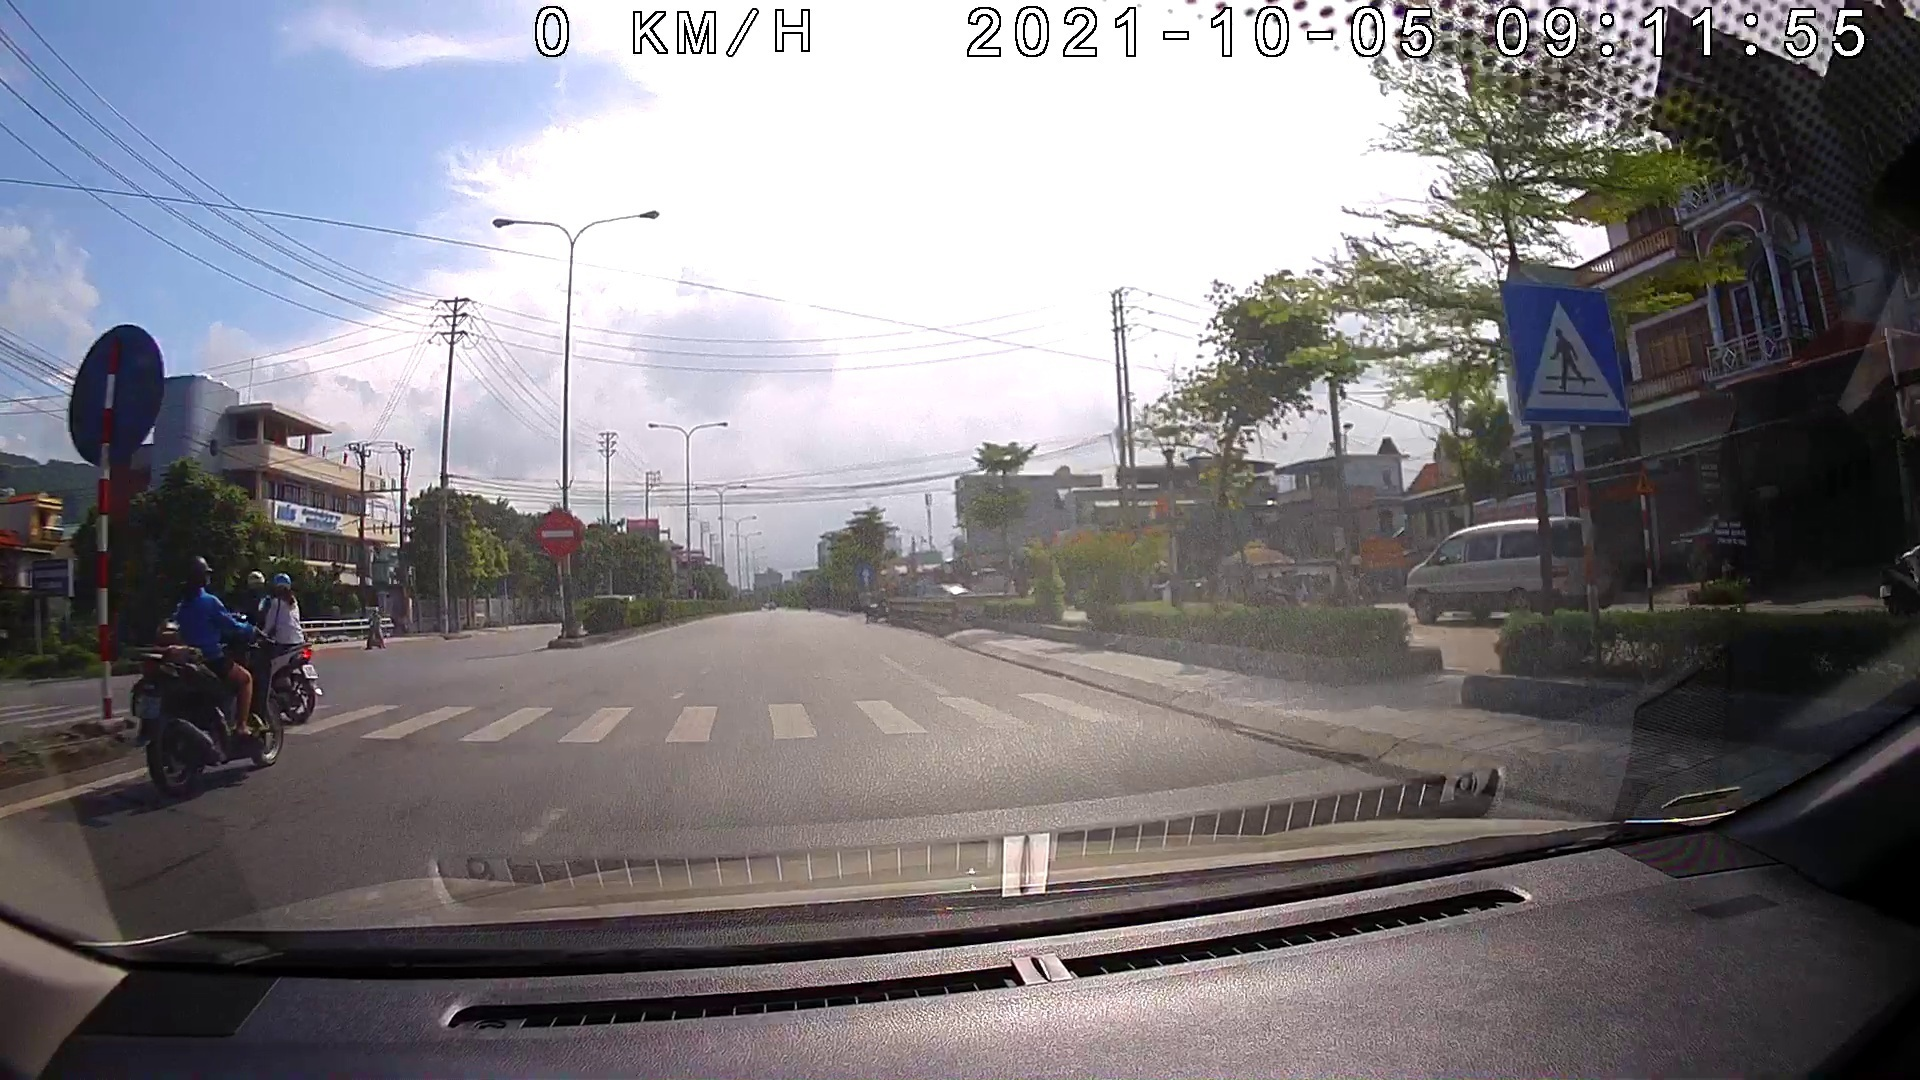Cam di nguoc chieu: (535, 505, 582, 560)
Nguoi di bo: (1505, 272, 1627, 427)
